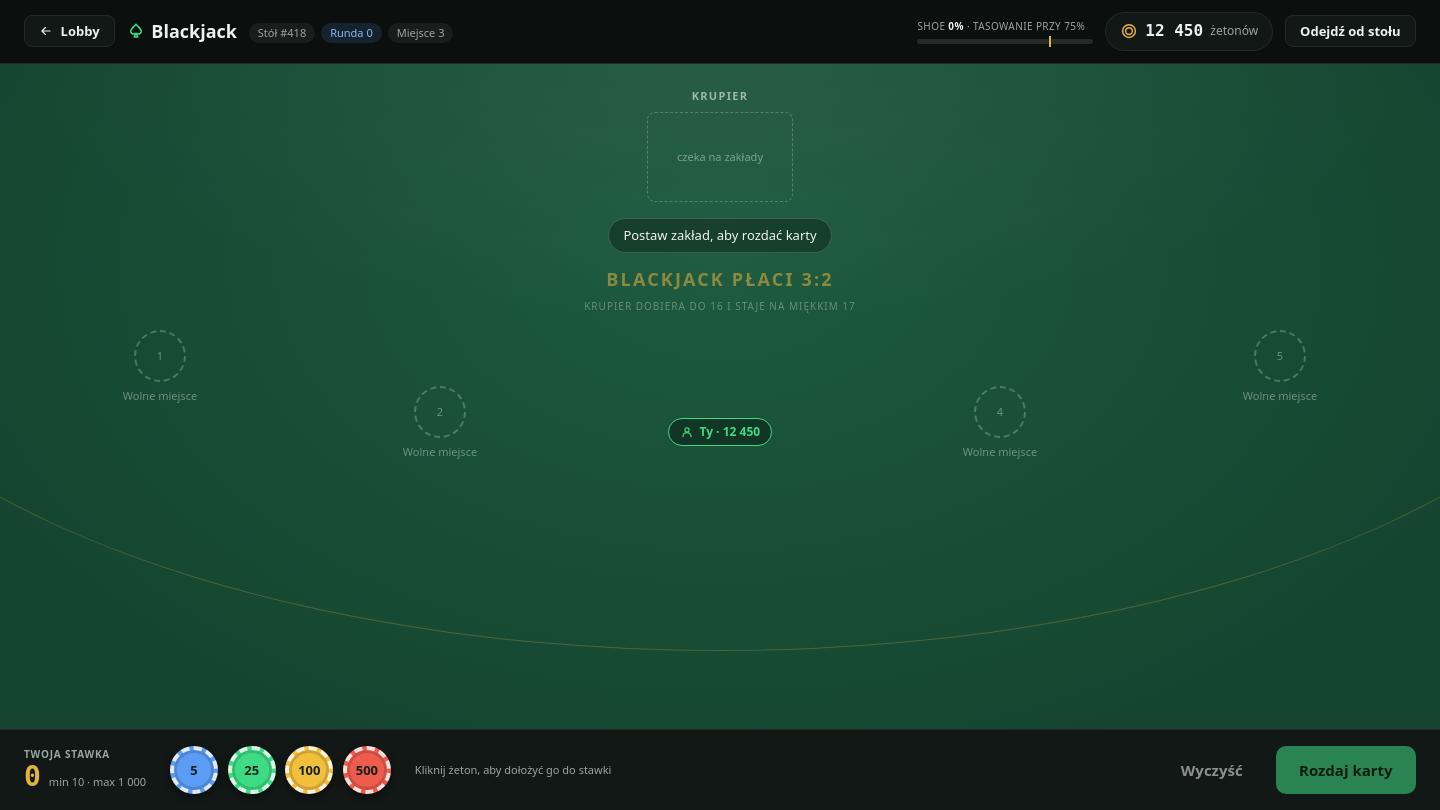
Test case: BlackjackTablePage › rejects a bet below the minimum without sending it
Expected: the heading "Blackjack" is shown, left=127, top=18, right=237, bottom=45
What coordinates should you click on to do the following:
click the button "5"
I would click on:
 (194, 770)
Its box is left=170, top=746, right=218, bottom=794.
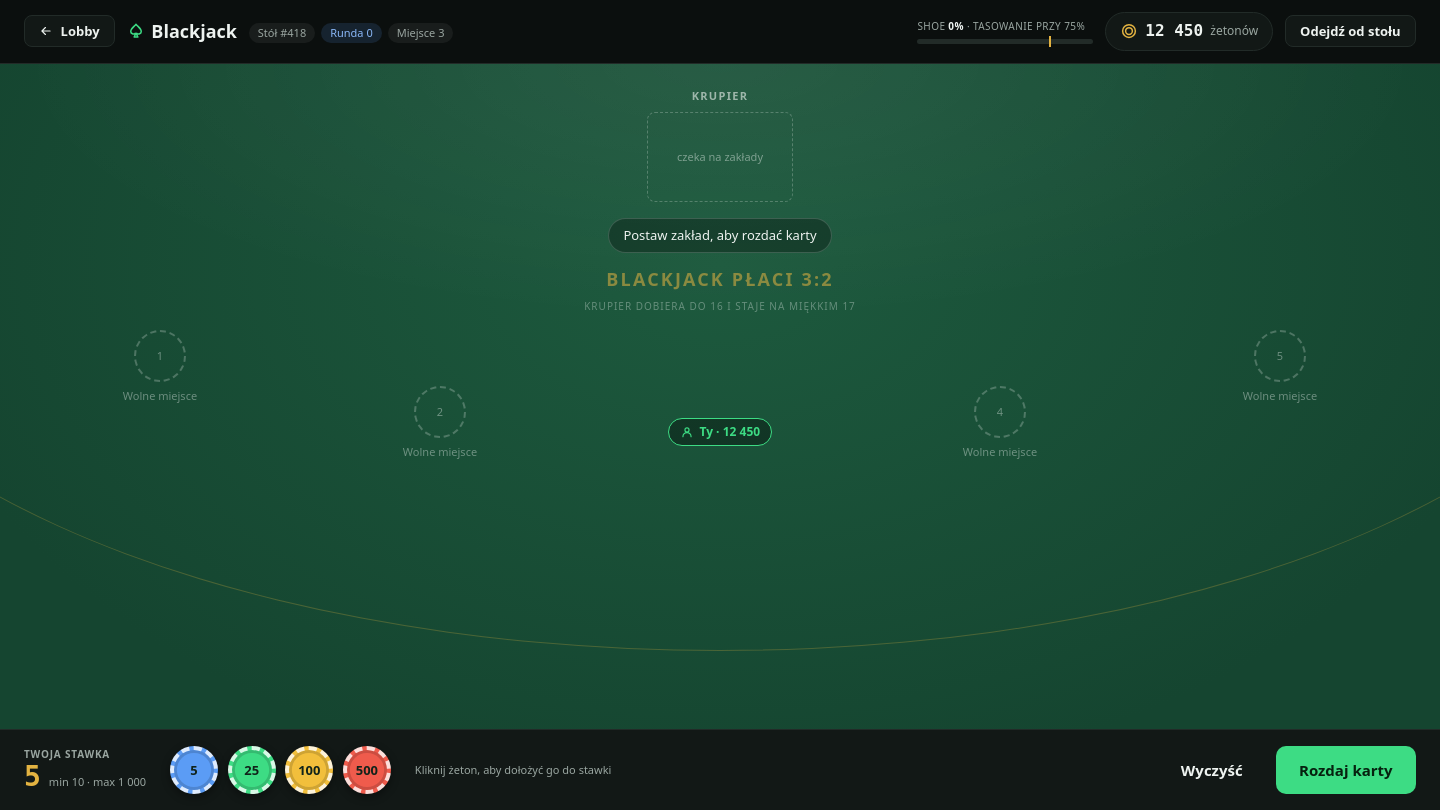
What coordinates should you click on to do the following:
click the button "Rozdaj karty"
I would click on:
 (1346, 770)
Its box is left=1276, top=746, right=1416, bottom=794.
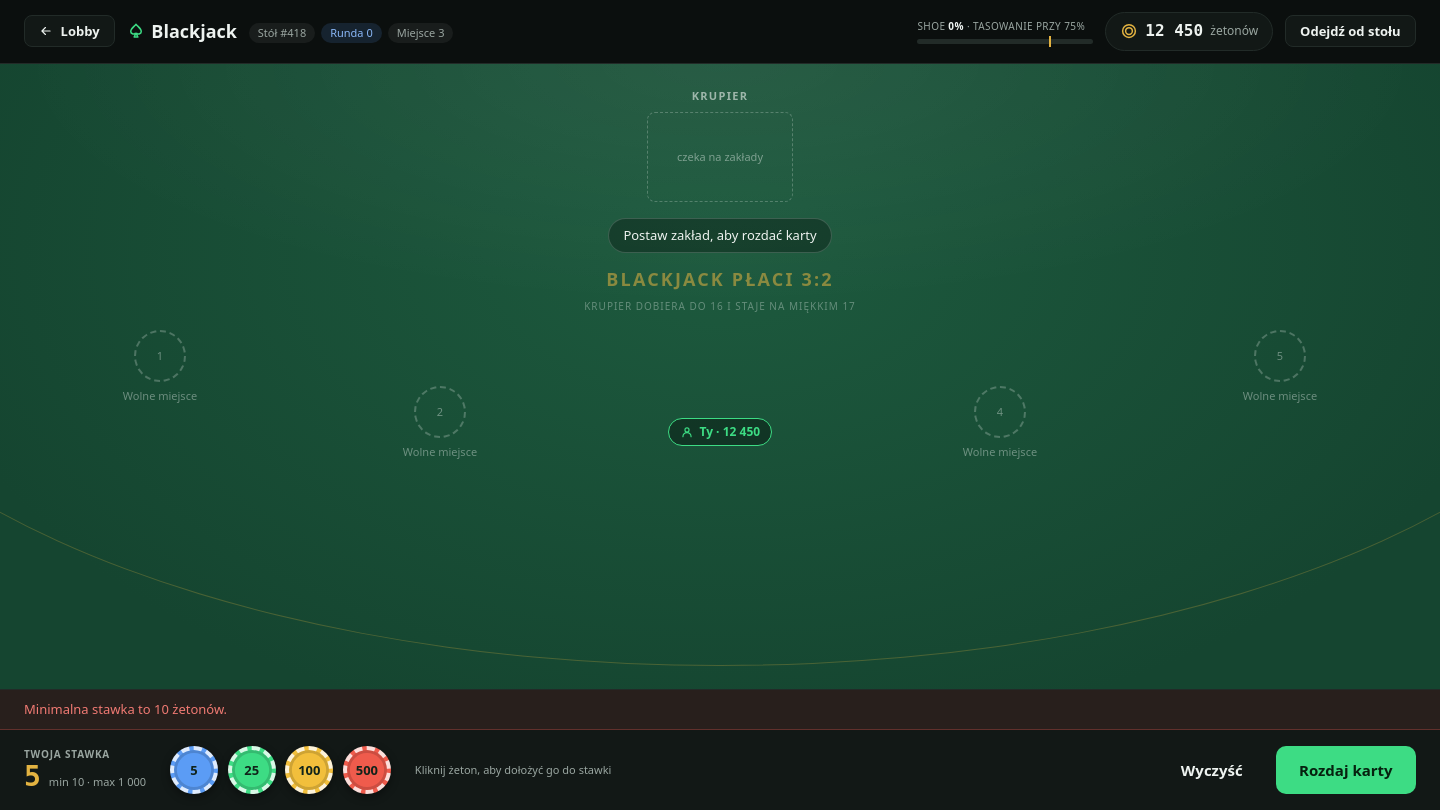
Now the message "Minimalna stawka to 10 żetonów." is shown, box left=0, top=690, right=1439, bottom=730
